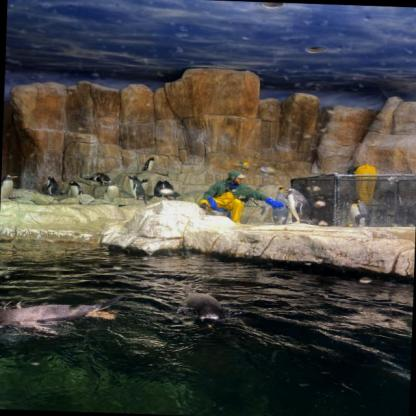penguin: (0, 292, 125, 339), (183, 290, 227, 329), (282, 187, 315, 225), (260, 186, 291, 224), (124, 174, 148, 204), (347, 198, 371, 226), (0, 175, 20, 201), (44, 175, 62, 195), (163, 180, 180, 200), (383, 190, 400, 209), (65, 182, 83, 197), (84, 173, 110, 183), (144, 156, 156, 172), (154, 180, 164, 198), (141, 178, 150, 196)
